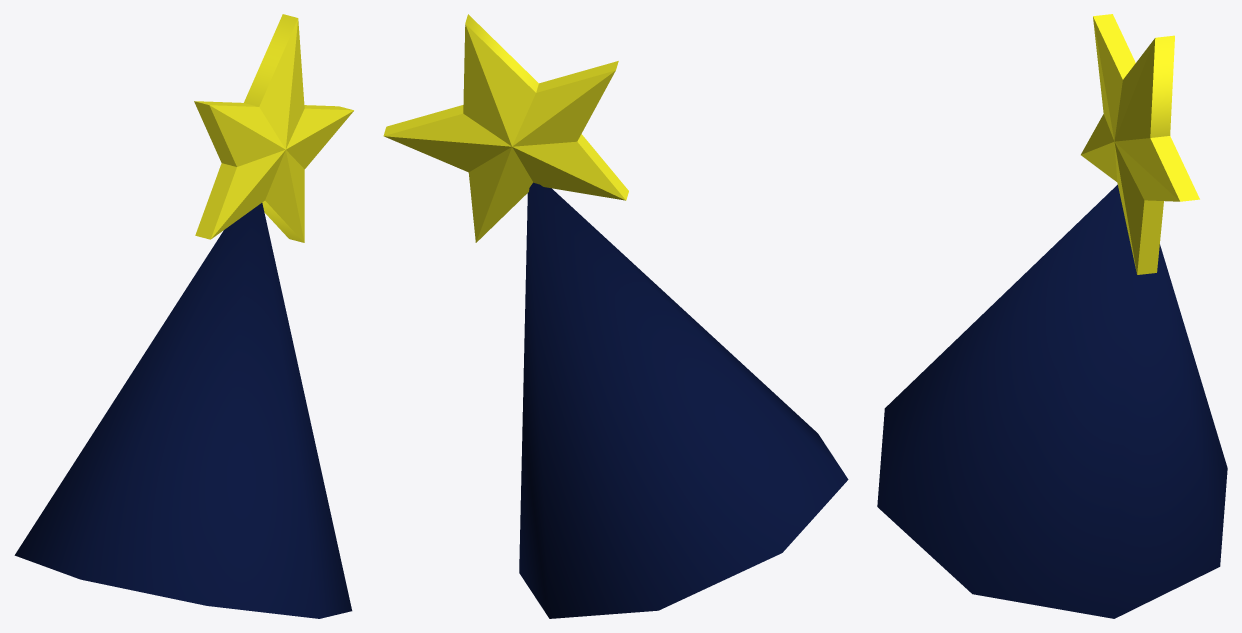
Rendered from party.FBX.
3 views of the same model, side by side, from view 1: azimuth 30°, elevation 25°; view 2: azimuth 150°, elevation 25°; view 3: azimuth 270°, elevation 25° (orthographic). The views are drawn at different scales.
Visible parts, largest first — view 1: Party; view 2: Party; view 3: Party.
Boxes of the visible parts, <box> form: Party: <box>14,14,353,618</box>; Party: <box>383,14,848,618</box>; Party: <box>877,14,1227,618</box>.
Bounding box in the file's own units: 0.5282 × 0.7639 × 0.4059.
